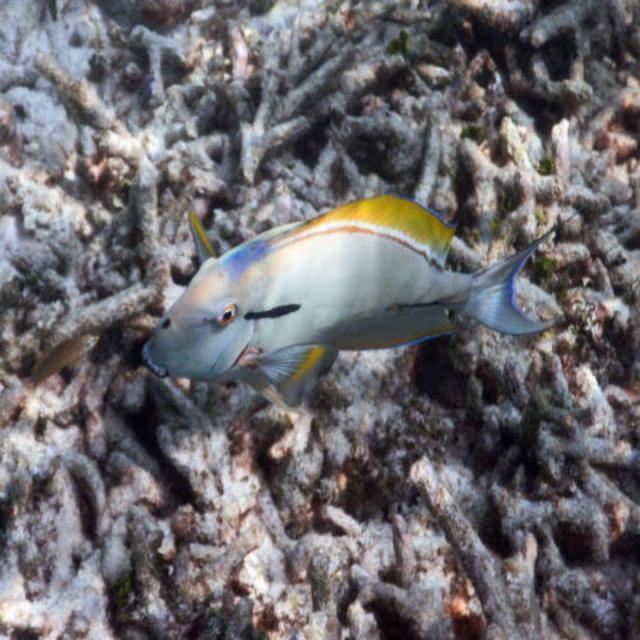Dead Coral: (0, 377, 640, 636), (0, 0, 640, 225)
